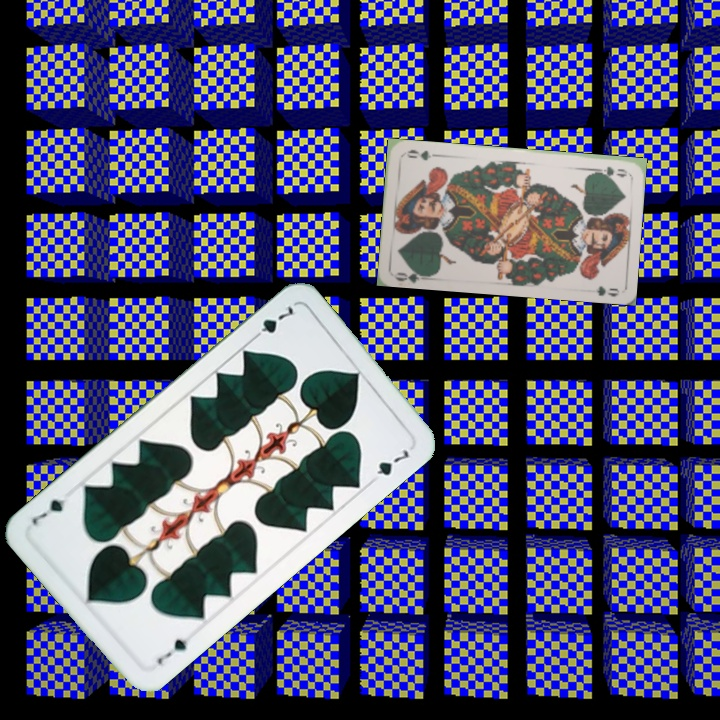G7: (247, 301, 296, 343), (153, 634, 190, 668)
GO: (392, 264, 433, 284), (589, 162, 630, 179)
